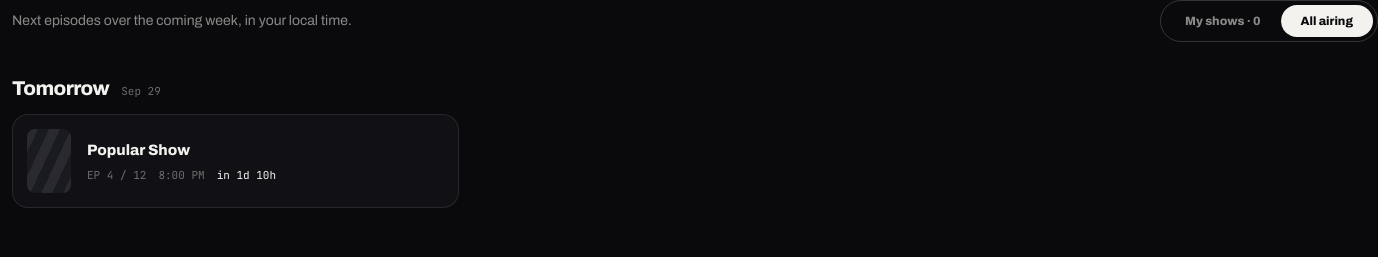
AiringSchedule › explains an empty 'My shows' view and offers everything instead
The image size is (1378, 257).
Click the button "My shows · 0": (1223, 21) [1165,5,1280,37]
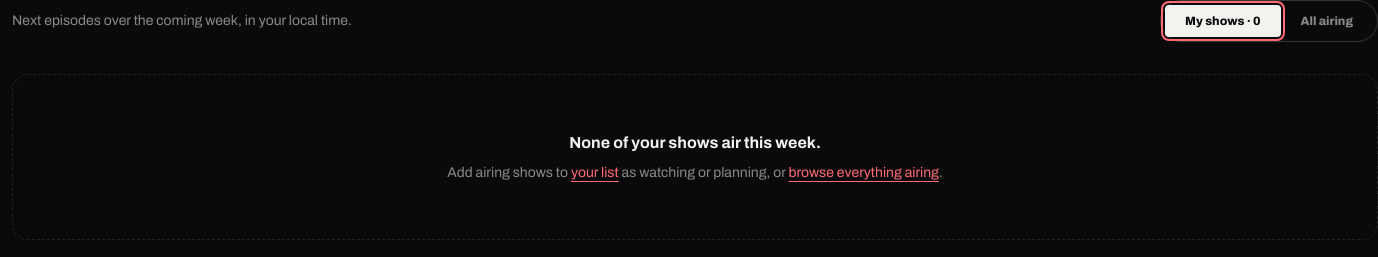
Expected: the text "None of your shows air this week." is shown, [569,134,821,151]
Click the button "browse everything airing": (864, 173) [789,163,939,183]
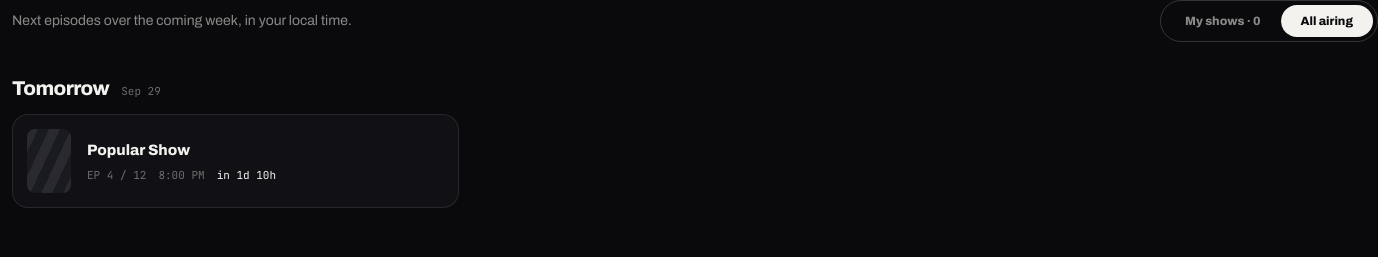
Expected: the link "Popular Show" is shown, [87,142,190,158]
